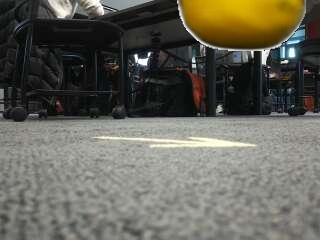lemon: (182, 0, 305, 48)
